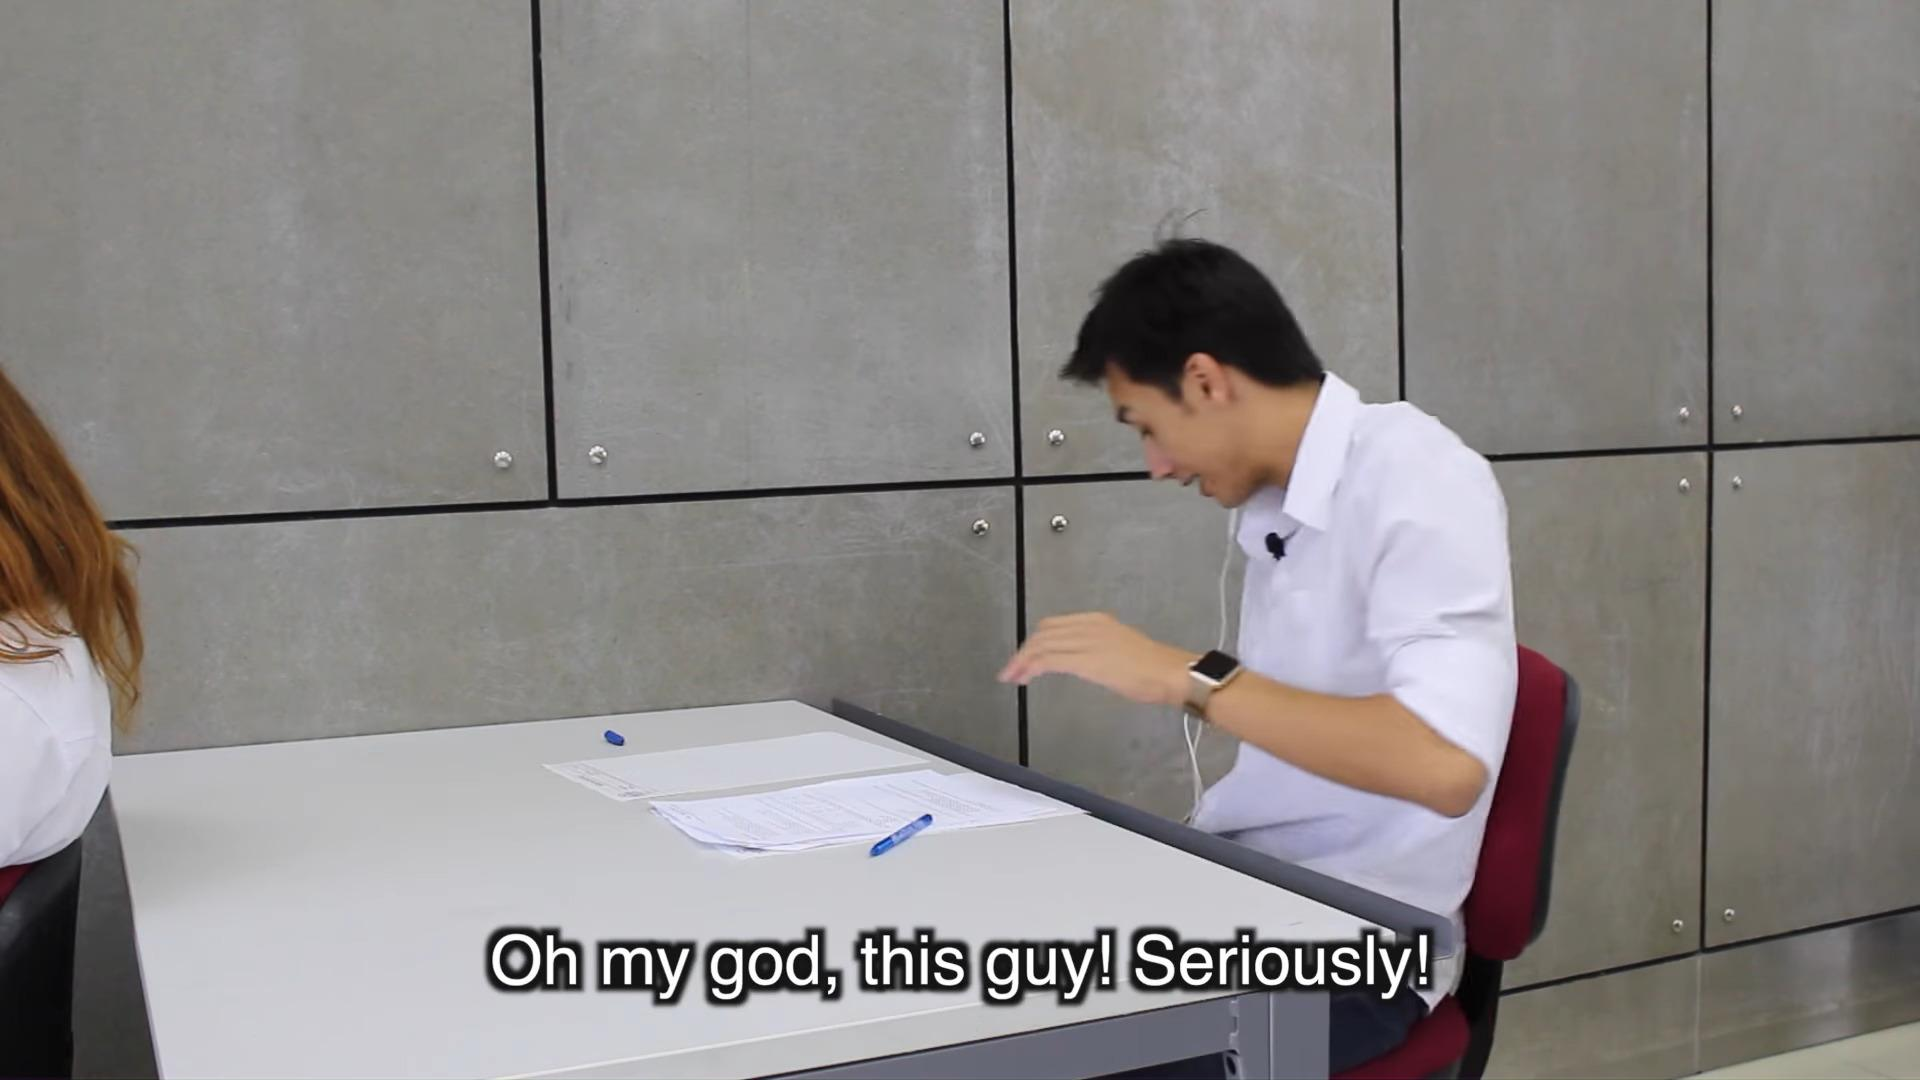cheating: (527, 211, 1565, 899)
